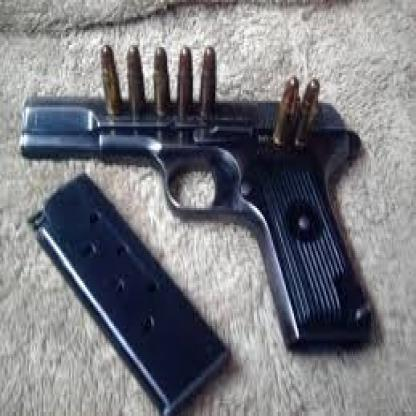Pistol: (20, 88, 375, 348)
